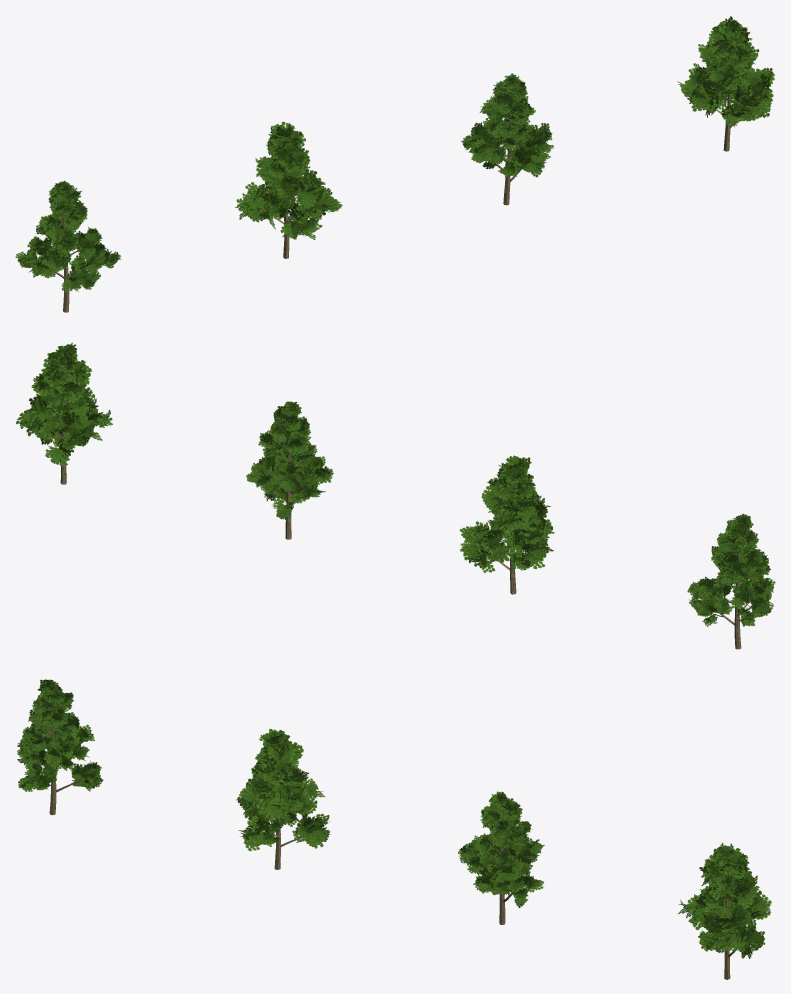
Rendered from tree_linden.glb.
3 renders of one model, top to bottom at view 1: azimuth 30°, elevation 25°; view 2: azimuth 150°, elevation 25°; view 3: azimuth 330°, elevation 25°, orthographic. The views are drawn at different scales.
Parts seen in each view (by area): view 1: v0_lo_leaf, v1_lo_leaf, v0_hi_leaf, v1_hi_leaf; view 2: v0_lo_leaf, v1_lo_leaf, v0_hi_leaf, v1_hi_leaf; view 3: v0_lo_leaf, v1_lo_leaf, v0_hi_leaf, v1_hi_leaf.
Boxes of the visible parts, x1=… form: v0_lo_leaf: x1=235, y1=121, x2=342, y2=239; v1_lo_leaf: x1=677, y1=16, x2=774, y2=126; v0_hi_leaf: x1=15, y1=180, x2=120, y2=293; v1_hi_leaf: x1=461, y1=73, x2=553, y2=177; v0_lo_leaf: x1=459, y1=455, x2=554, y2=572; v1_lo_leaf: x1=16, y1=342, x2=112, y2=465; v0_hi_leaf: x1=687, y1=514, x2=775, y2=626; v1_hi_leaf: x1=246, y1=401, x2=333, y2=519; v0_lo_leaf: x1=236, y1=729, x2=330, y2=851; v1_lo_leaf: x1=678, y1=843, x2=771, y2=958; v0_hi_leaf: x1=17, y1=679, x2=103, y2=791; v1_hi_leaf: x1=458, y1=791, x2=544, y2=907.
Bounding box in the file's own units: 67.58 × 11.72 × 8.45.
2 materials, 2 textured.
